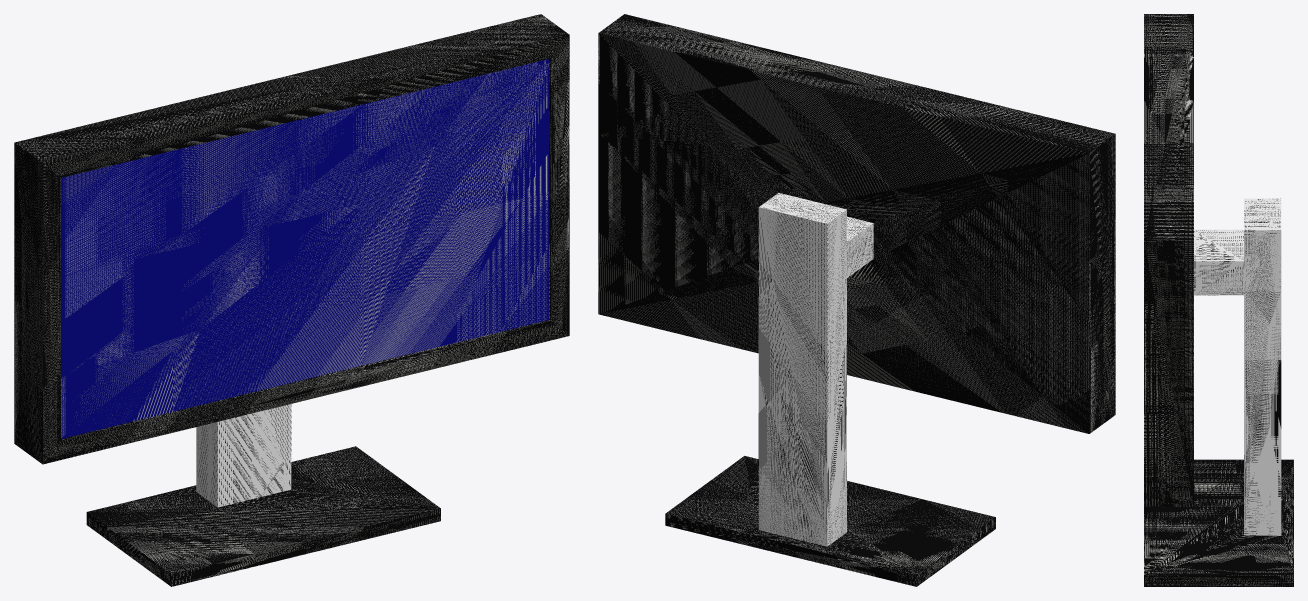
The model's file is monitor.dae.
3 renders of one model, left to right at view 1: azimuth 30°, elevation 25°; view 2: azimuth 150°, elevation 25°; view 3: azimuth 270°, elevation 25°, orthographic. The views are drawn at different scales.
Visible parts, largest first — view 1: SketchUp (×5); view 2: SketchUp (×3); view 3: SketchUp (×3).
Part boxes in pixels (x1,y1,x2,y2): SketchUp (×5): [14, 14, 569, 586]; SketchUp (×3): [598, 14, 1115, 586]; SketchUp (×3): [1144, 14, 1293, 586].
Bounding box in the file's own units: 21.5 × 6 × 17.75.
